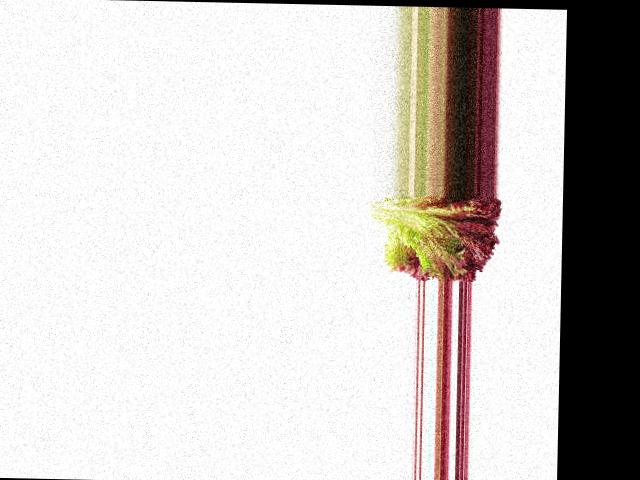lettuce: (364, 194, 509, 280)
